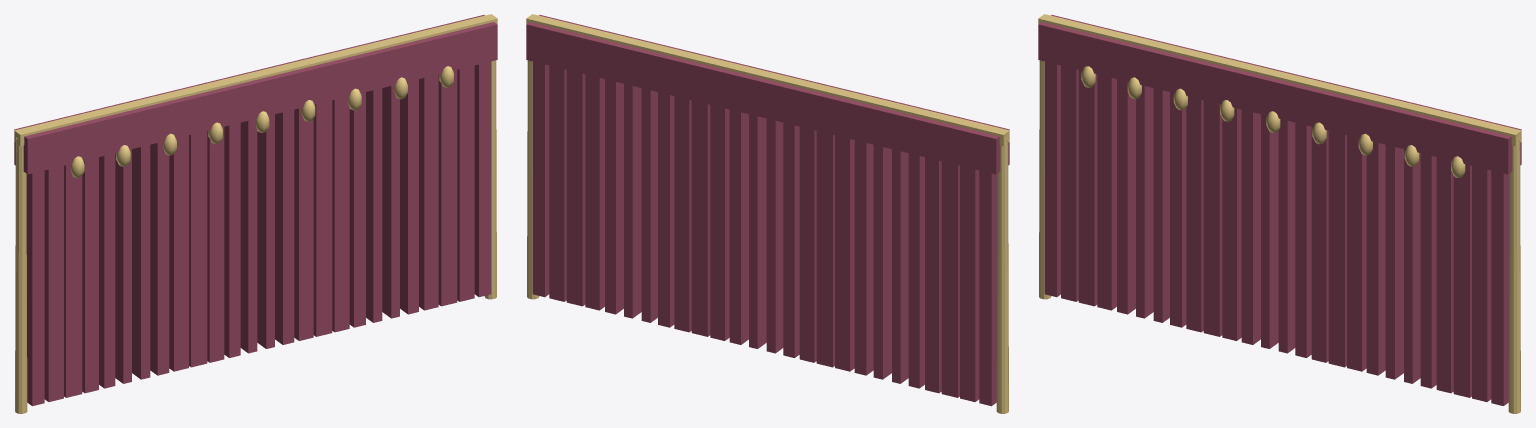
The model's file is casino-floor-and-back-rooms-stage-curtain-a1869b08__27052.glb.
3 views of the same model, side by side, from view 1: azimuth 30°, elevation 25°; view 2: azimuth 150°, elevation 25°; view 3: azimuth 330°, elevation 25° (orthographic).
Visible parts, largest first — view 1: stage-curtain; view 2: stage-curtain; view 3: stage-curtain.
Boxes of the visible parts, x1=… form: stage-curtain: x1=14, y1=14, x2=497, y2=413; stage-curtain: x1=526, y1=14, x2=1009, y2=413; stage-curtain: x1=1038, y1=14, x2=1521, y2=413.
Bounding box in the file's own units: 6.24 × 3.47 × 0.3734.
